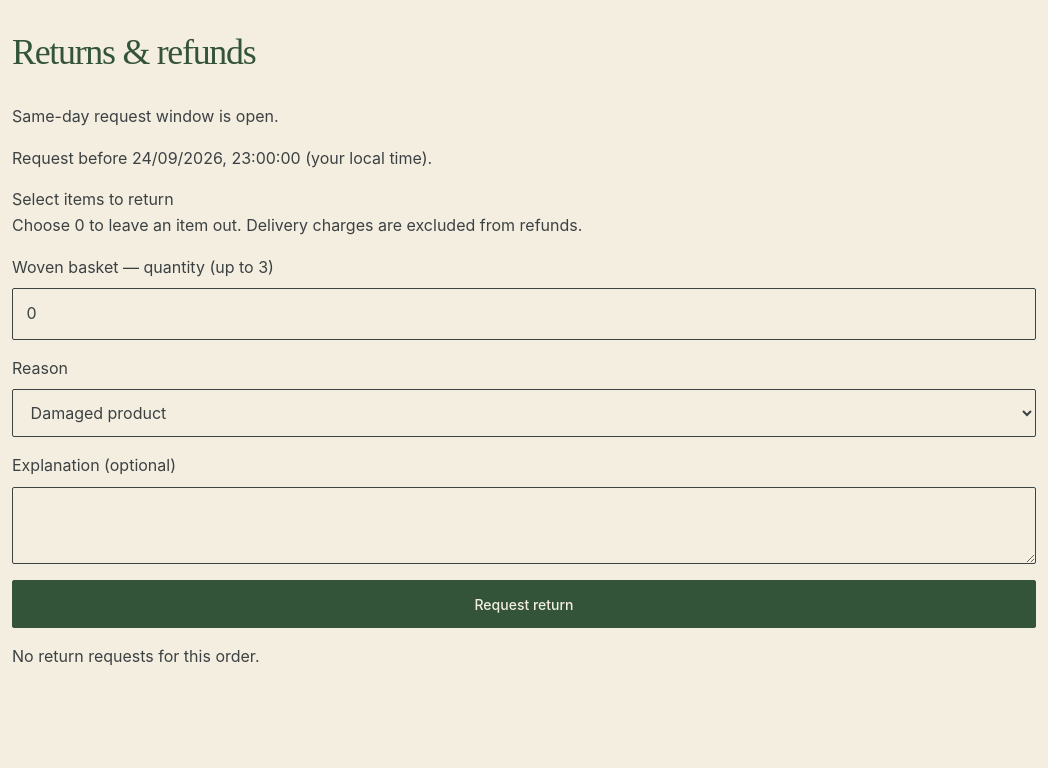
Test case: returns › focuses and associates selection errors
Click the button "Request return": (524, 604) [12,580,1036,628]
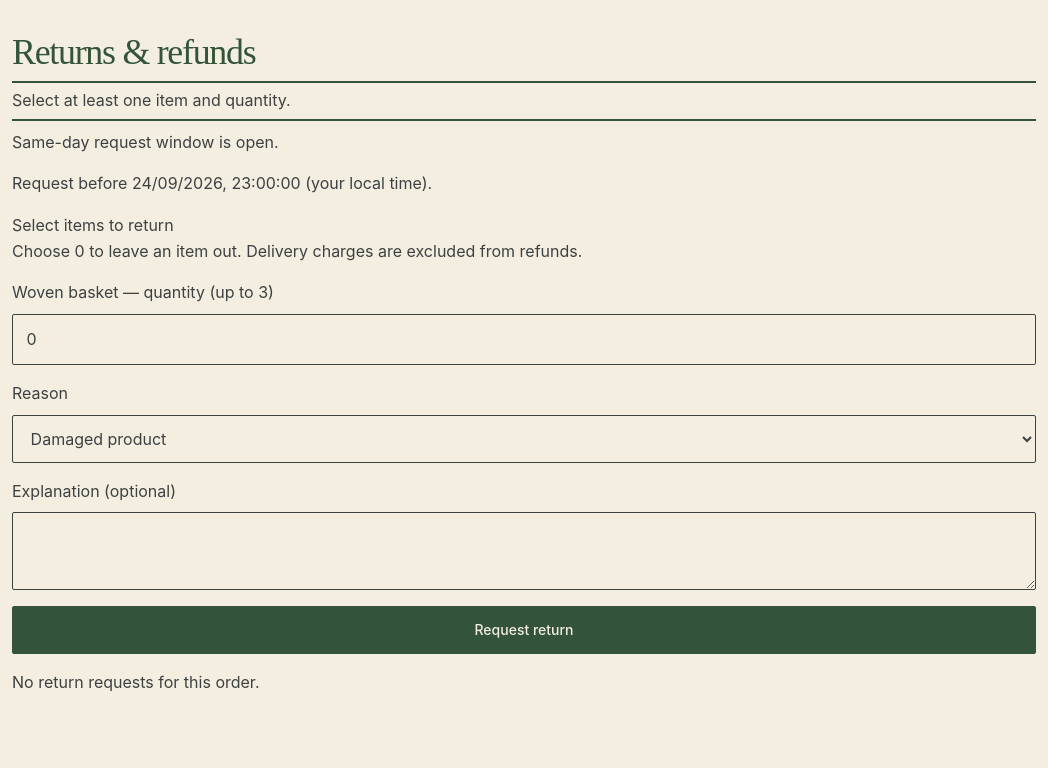
Expected: the message shows "Select at least", [12,90,291,110]
